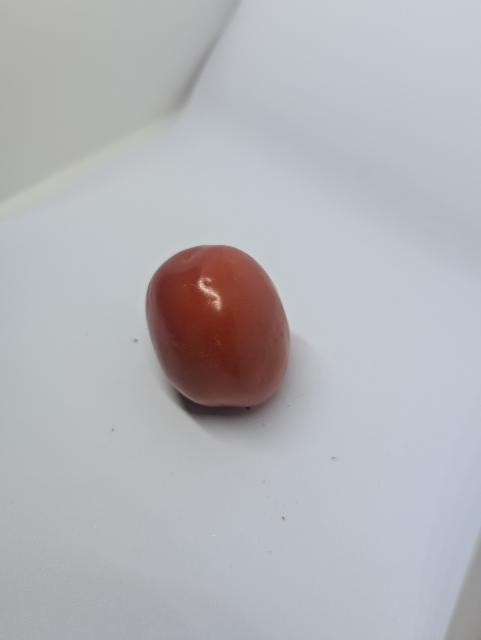red: (134, 243, 307, 419)
